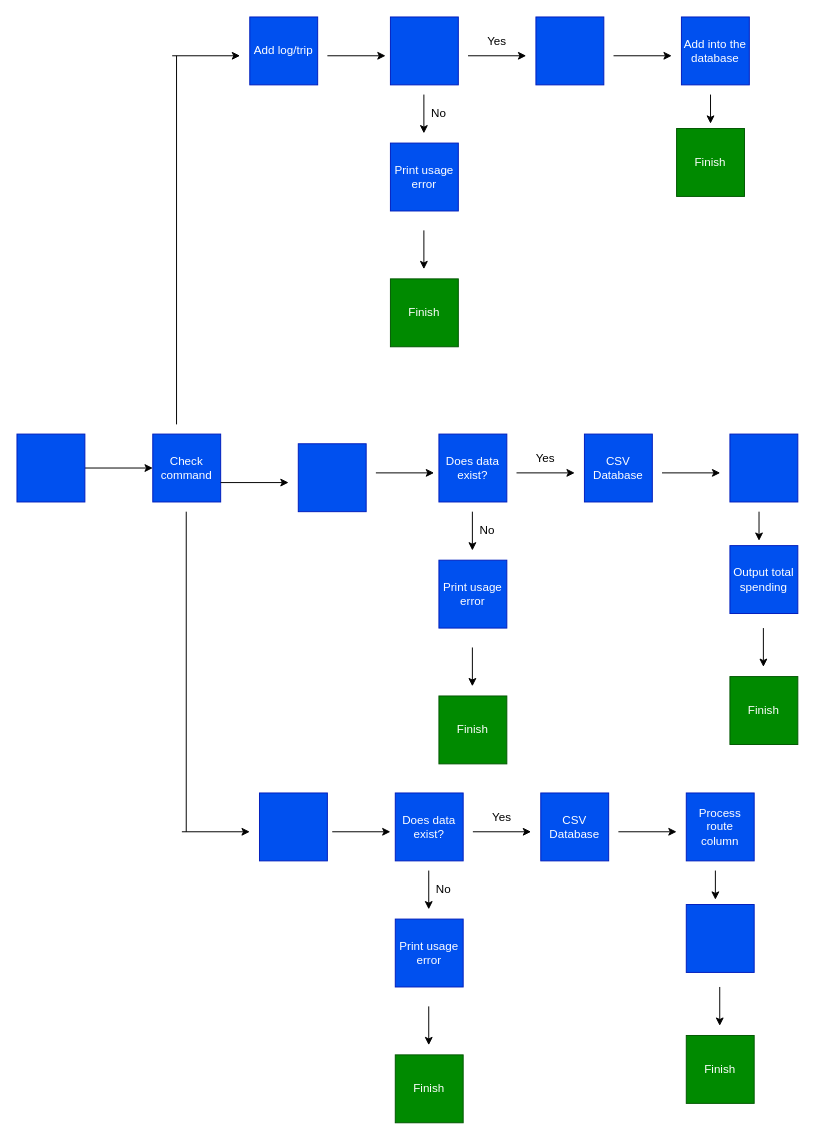
Some shapes in this 815 by 1140 pixel diagram are drawn without their labels. Here are the shapes that lost their labels. From the top down, the centre of each, then its label:
At point (423, 50): "Check input".
At point (569, 50): "Identify date the user added the log in".
At point (50, 467): "User sends command".
At point (331, 477): "Spending sum".
At point (763, 467): "Process Cost column in the database".
At point (293, 826): "route analysis".
At point (719, 938): "output most frequent routes".
